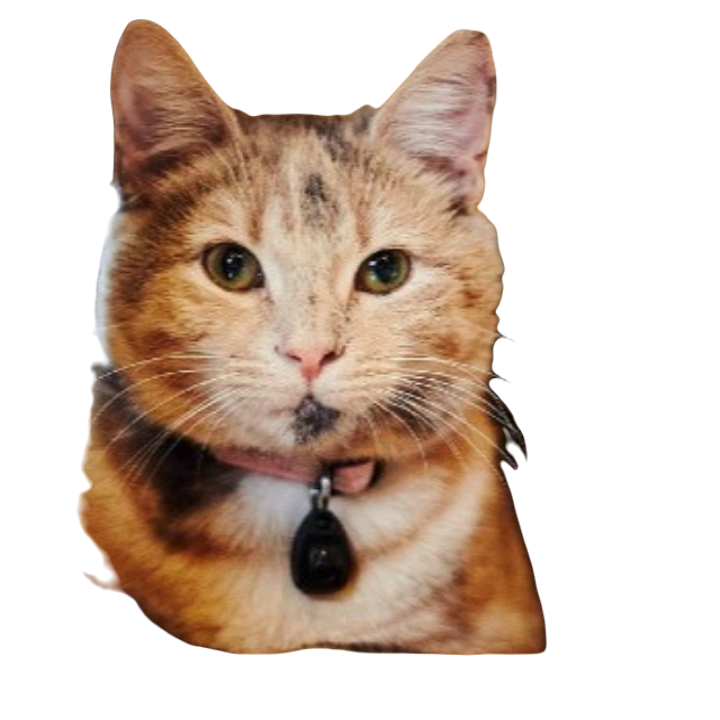Cat: (52, 13, 545, 659)
